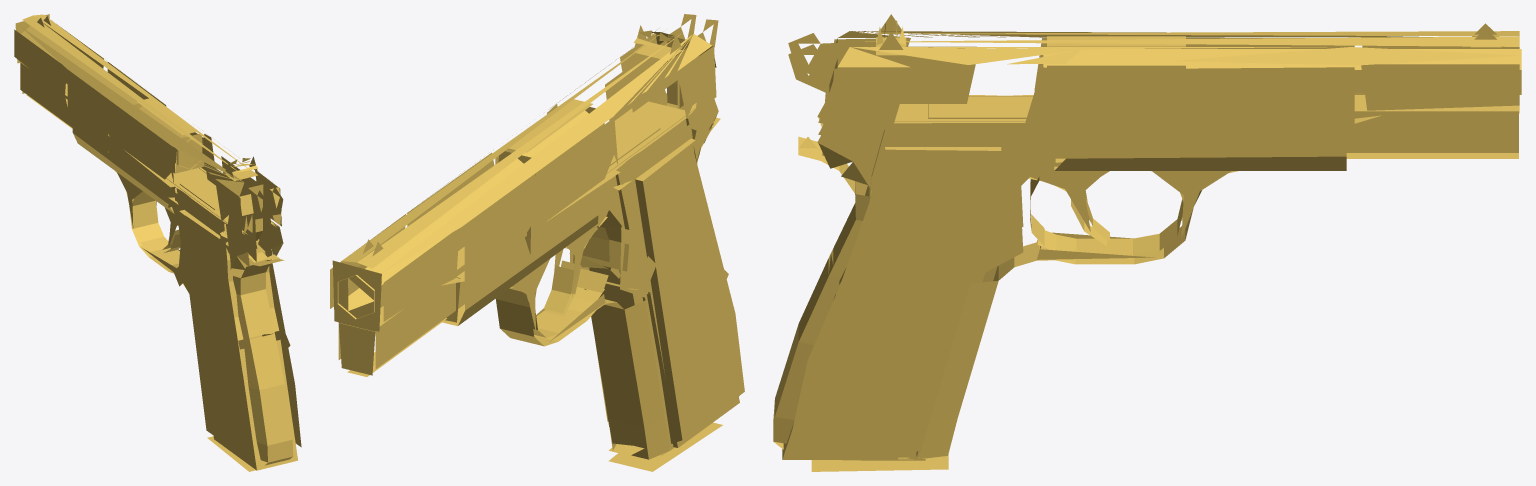
Rendered from charm_mst_pistol_1.glb.
The picture shows the model from 3 angles, left to right: view 1: azimuth 30°, elevation 25°; view 2: azimuth 150°, elevation 25°; view 3: azimuth 270°, elevation 25°; orthographic projection. The views are drawn at different scales.
Parts seen in each view (by area): view 1: p0_paint; view 2: p0_paint; view 3: p0_paint.
Part boxes in pixels (box(x1,y1,x2,y2)): p0_paint: box(14, 14, 301, 471); p0_paint: box(330, 14, 744, 471); p0_paint: box(773, 14, 1521, 471).
Bounding box in the file's own units: 0.0258 × 0.1264 × 0.197.
